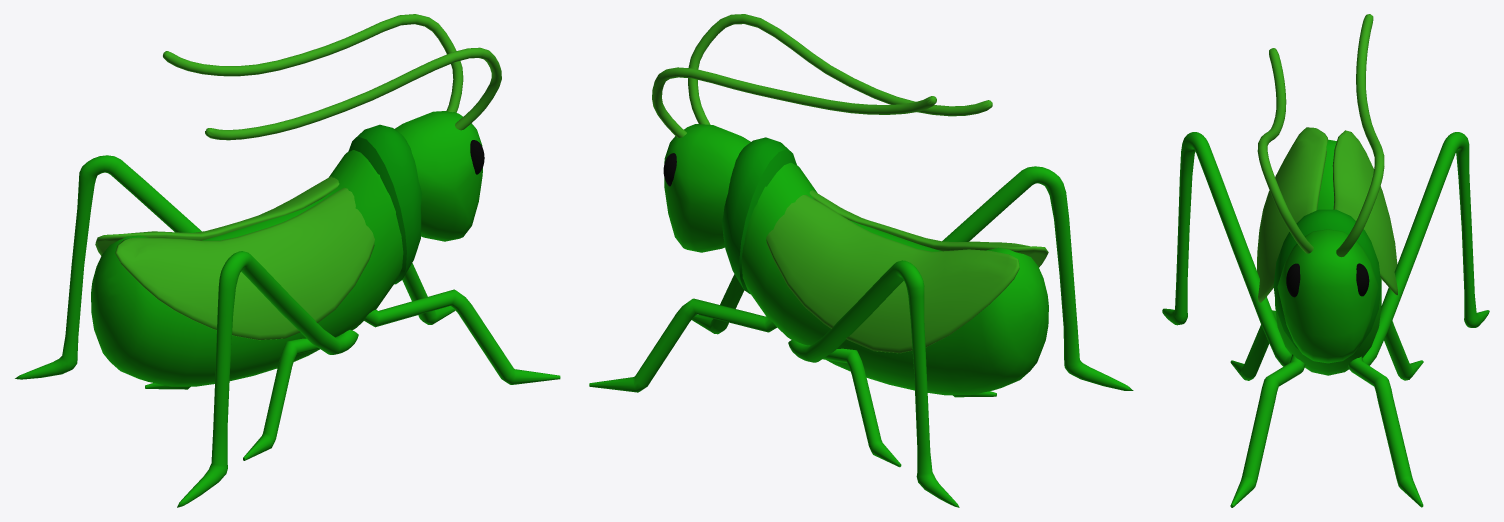
The model's file is GrassHoper_8.obj.
The picture shows the model from 3 angles, left to right: view 1: azimuth 30°, elevation 25°; view 2: azimuth 150°, elevation 25°; view 3: azimuth 270°, elevation 25°; orthographic projection. The views are drawn at different scales.
Visible parts, largest first — view 1: Sphere002; view 2: Sphere002; view 3: Sphere002.
Part boxes in pixels (x1,y1,x2,y2): Sphere002: (15, 14, 560, 507); Sphere002: (589, 14, 1133, 507); Sphere002: (1162, 14, 1489, 507).
Bounding box in the file's own units: 23.34 × 19.16 × 16.33.
